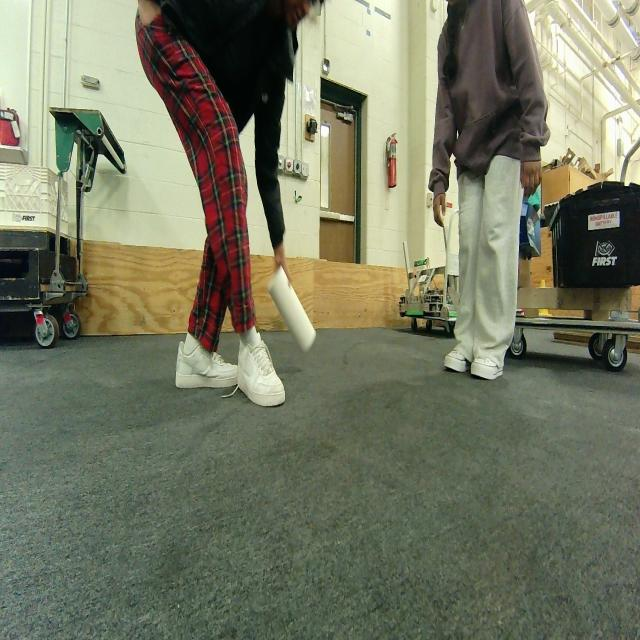coral: (264, 258, 324, 356)
